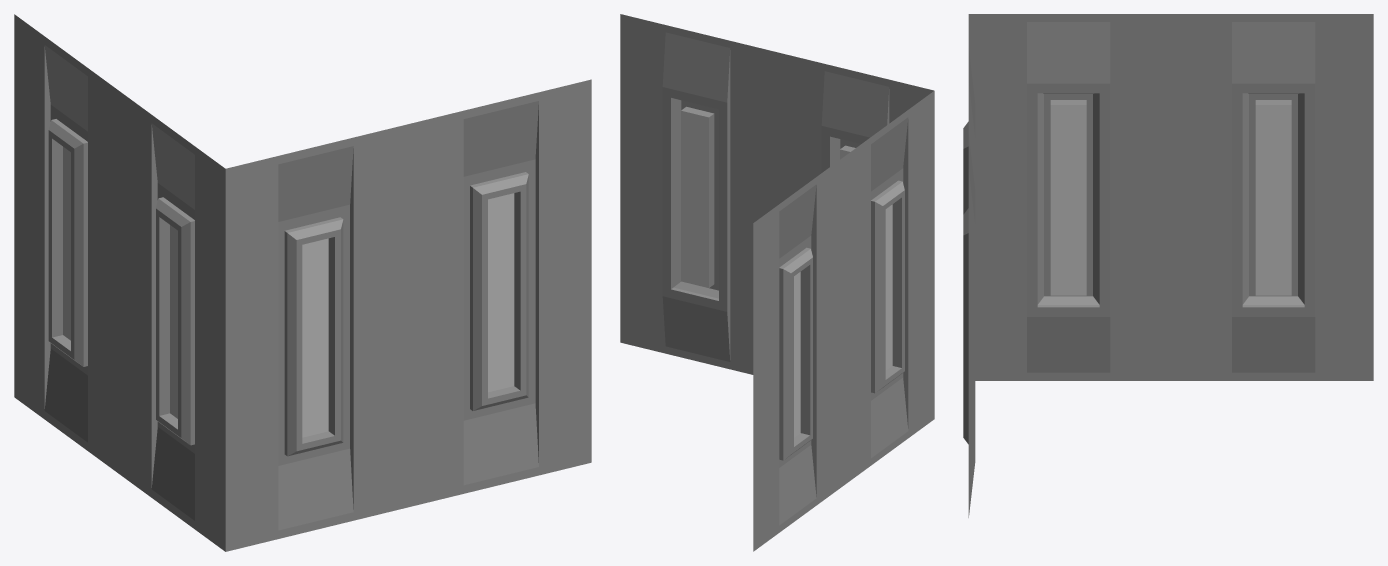
Rendered from Wall_04_Corner.FBX.
3 renders of one model, left to right at view 1: azimuth 30°, elevation 25°; view 2: azimuth 150°, elevation 25°; view 3: azimuth 270°, elevation 25°, orthographic. The views are drawn at different scales.
Parts seen in each view (by area): view 1: Wall_04_Corner_LOD0; view 2: Wall_04_Corner_LOD0; view 3: Wall_04_Corner_LOD0.
Part boxes in pixels (box(x1,y1,x2,y2)): Wall_04_Corner_LOD0: box(14, 14, 591, 551); Wall_04_Corner_LOD0: box(620, 14, 934, 551); Wall_04_Corner_LOD0: box(963, 14, 1373, 517).
Size of what is drawn, in the model's own units: 182 by 180 by 182.
